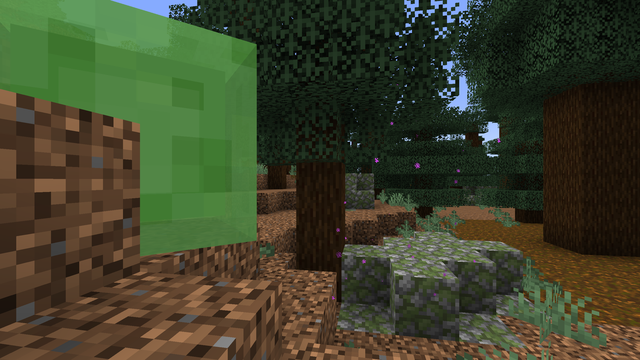slimes: (5, 9, 263, 273)
